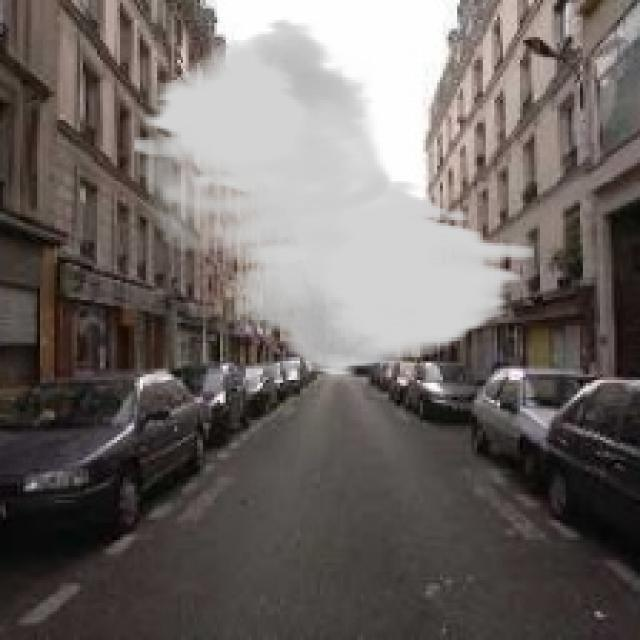Smoke: (132, 17, 534, 377)
